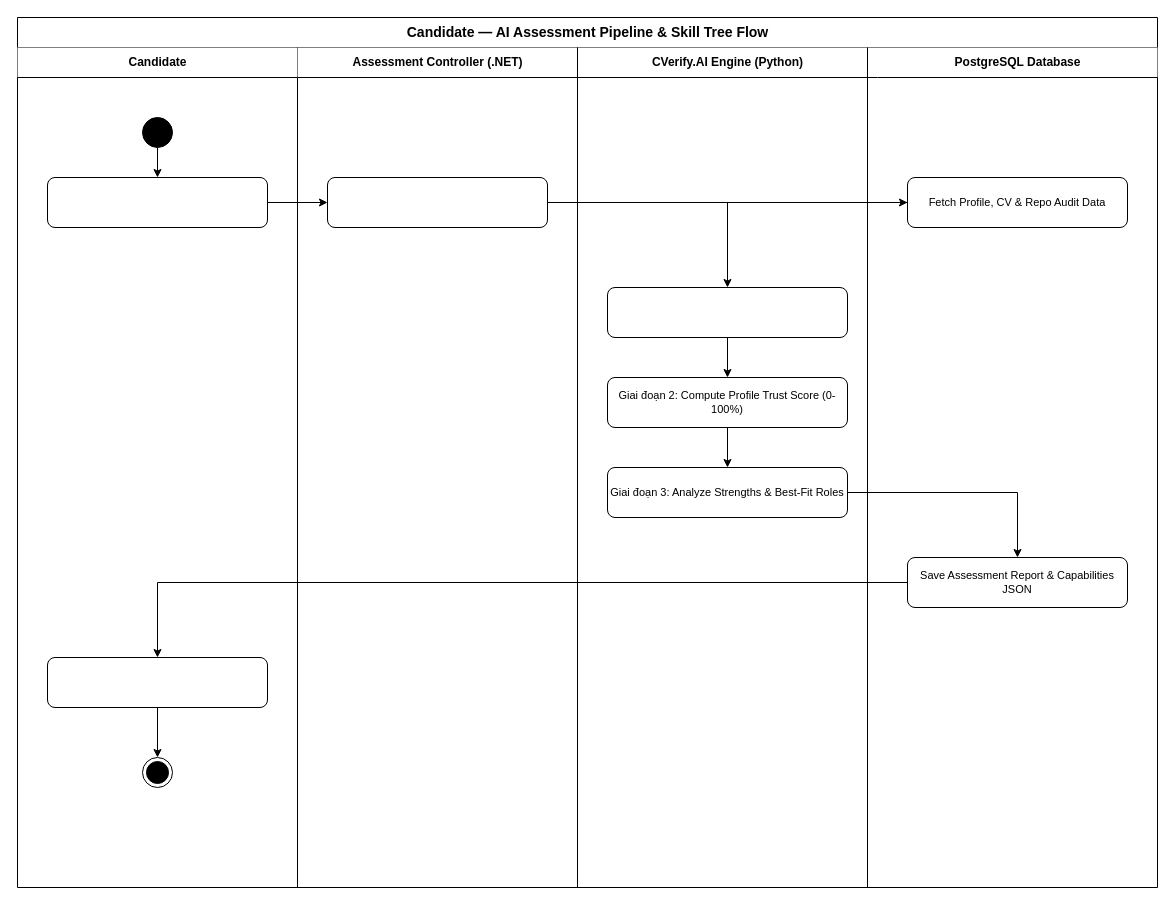
This 1175x906 diagram has some shape labels left out. Each missing label, with the centre of its shape:
Giai đoạn 1: Build Interactive Skill Tree Matrix: (727,312)
Hiển thị Cây kỹ năng 3D & Báo cáo Audit Năng lực: (157,682)
Tạo Candidate Assessment Record (Processing): (437,202)
Yêu cầu Đánh giá AI Tổng thể (Queue Assessment): (157,202)
